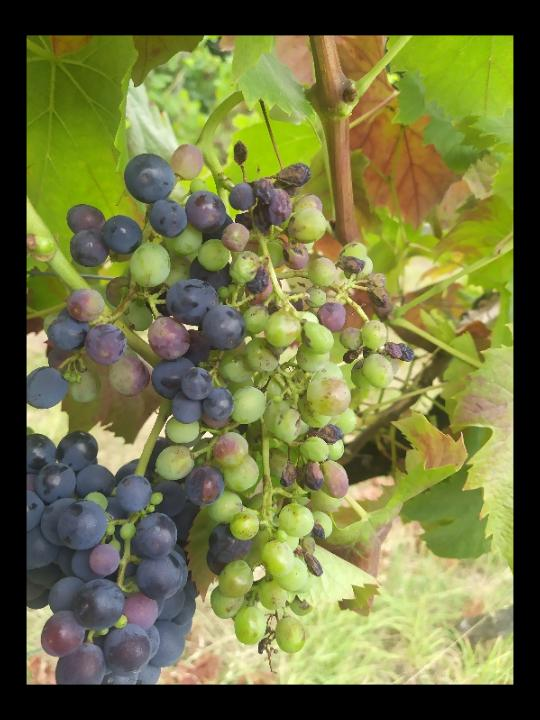grape: (31, 141, 413, 661)
